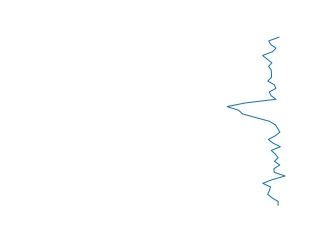interdistributaryEstuary: (223, 35, 289, 209)
